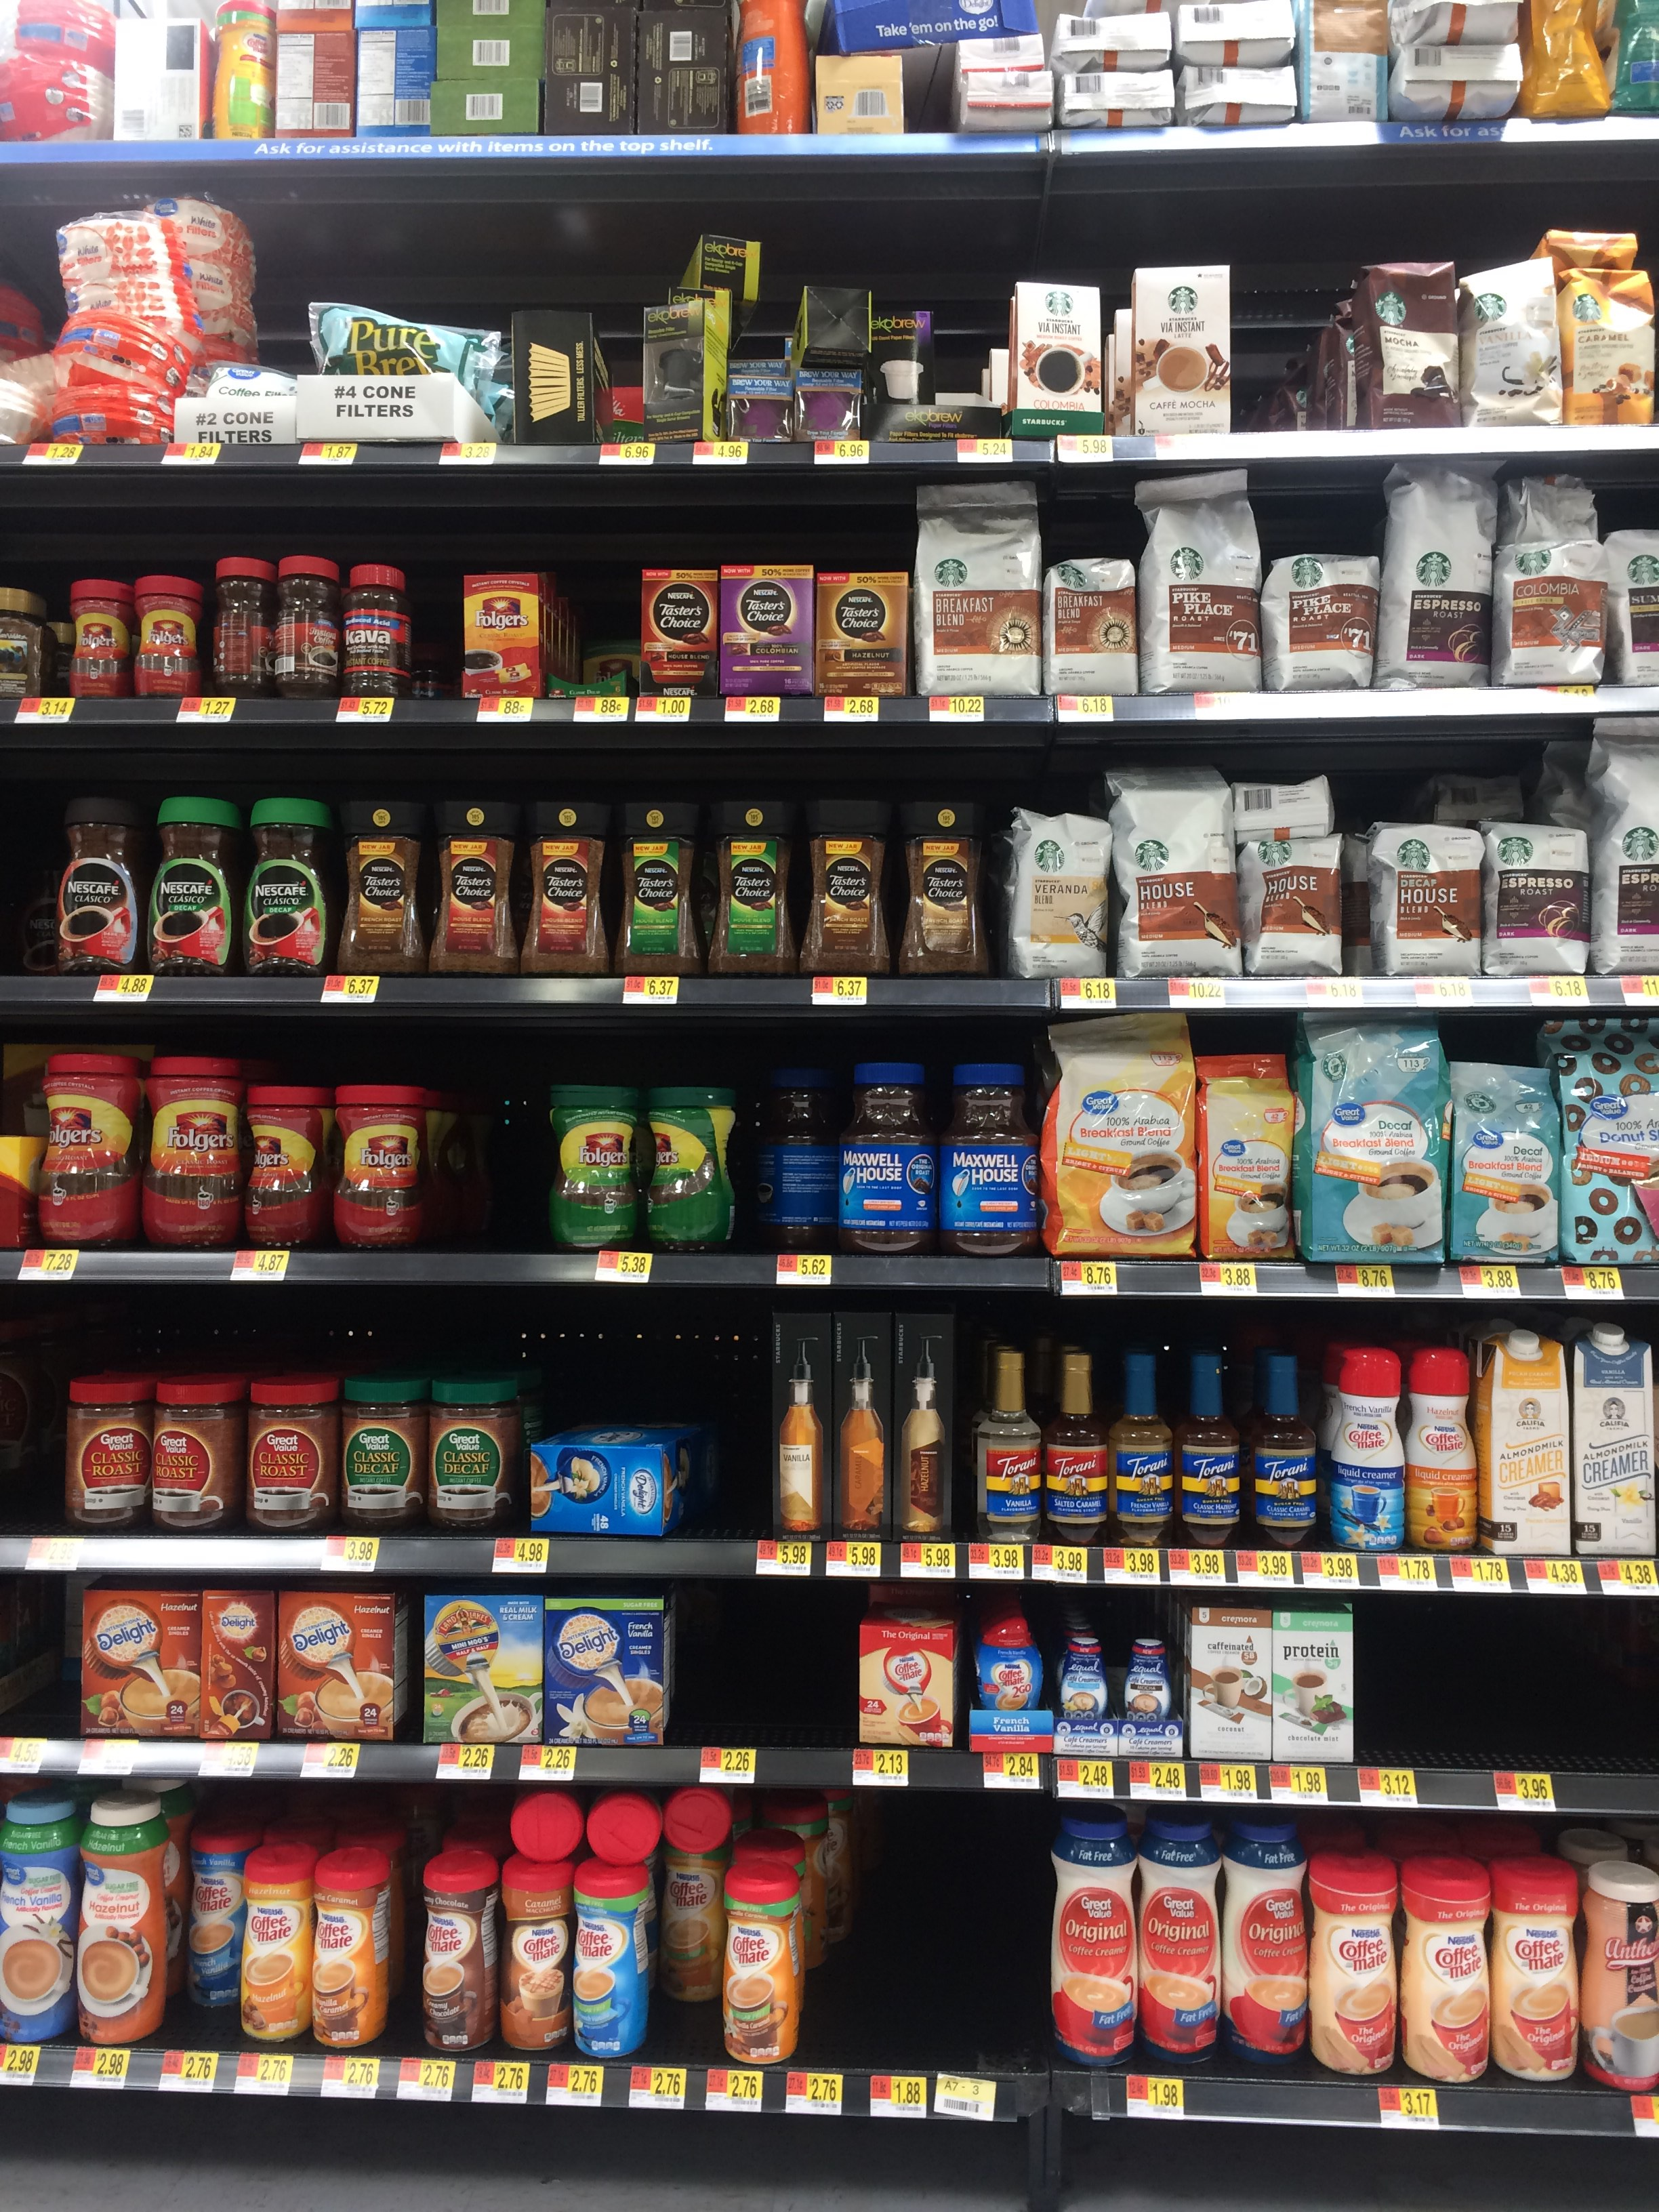Out-of-stock: (824, 1843, 1046, 2067), (1358, 1608, 1581, 1770)
